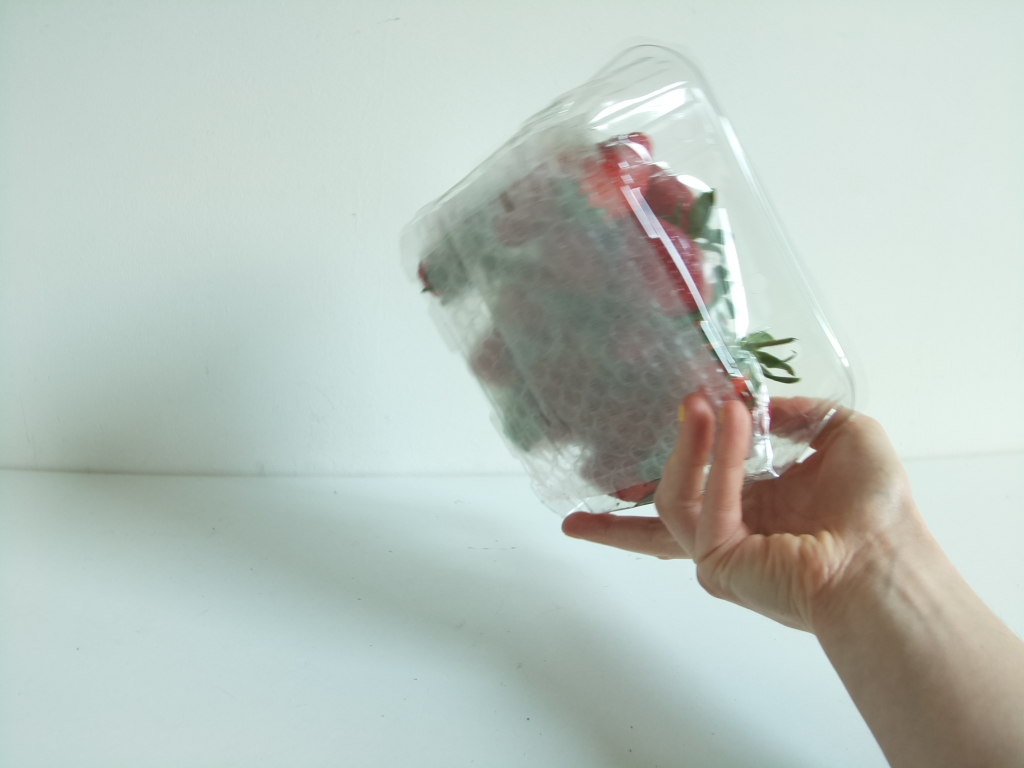soft-fruit: (396, 47, 859, 533)
